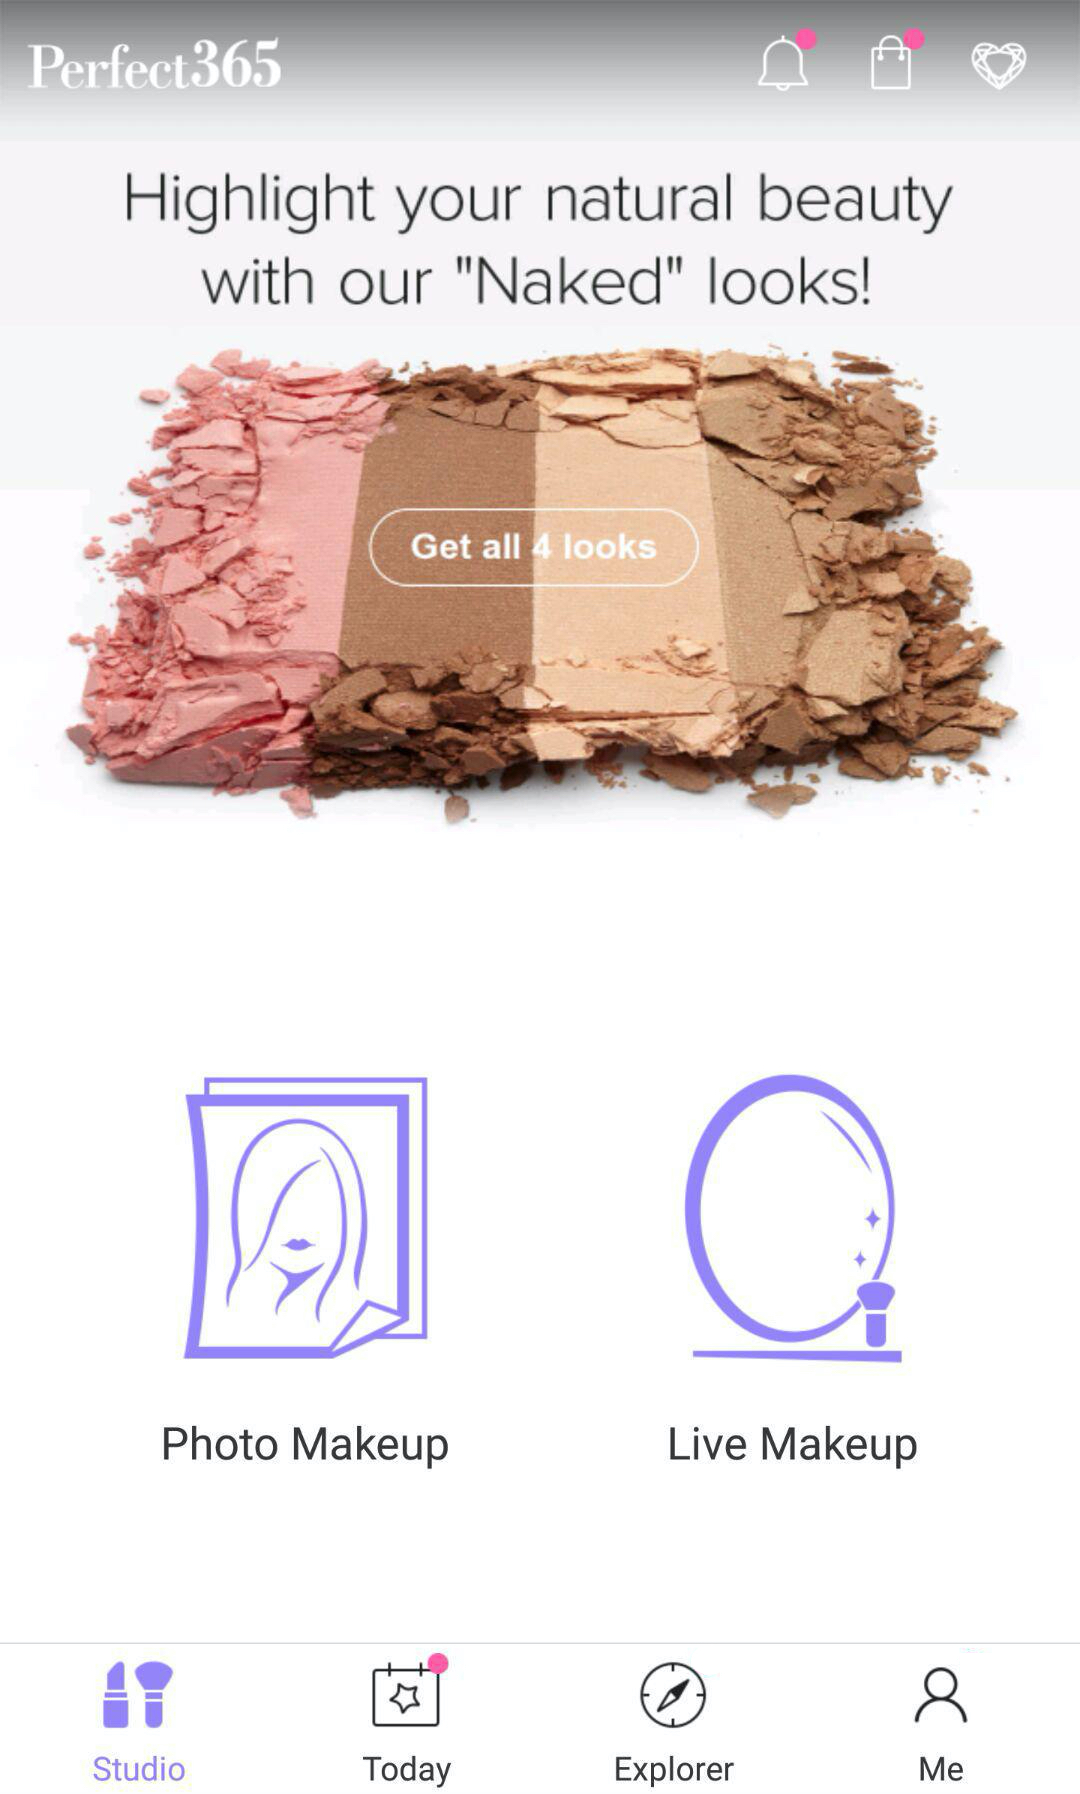Icon: (372, 1653, 448, 1727), (641, 1661, 707, 1727), (757, 29, 817, 92), (870, 28, 926, 91), (915, 1667, 969, 1724)
Image: (58, 338, 1021, 830), (182, 1076, 430, 1360), (684, 1074, 903, 1363), (102, 1659, 176, 1729), (969, 41, 1027, 92)
Text: (127, 172, 954, 308), (28, 37, 283, 91), (163, 1425, 448, 1470), (670, 1425, 919, 1470), (616, 1756, 735, 1789), (363, 1756, 454, 1788), (94, 1754, 186, 1782), (919, 1756, 963, 1782)
